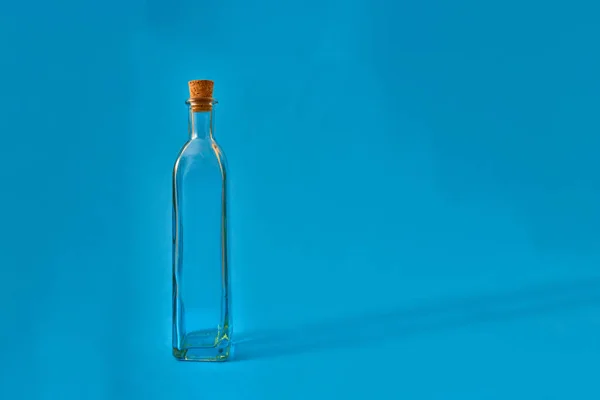glass_bottle: (149, 70, 253, 376)
